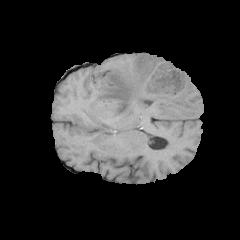glioma: (96, 54, 198, 120)
